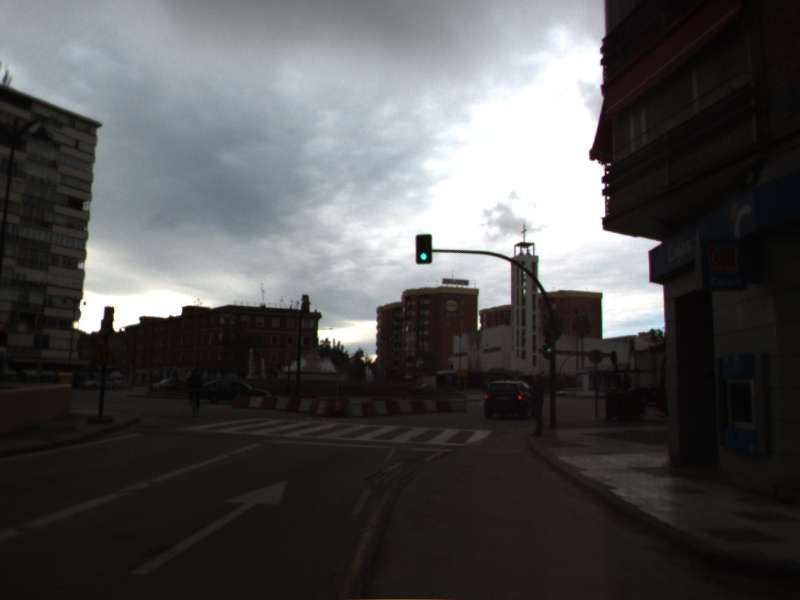STRAIGHT: (127, 477, 290, 579)
